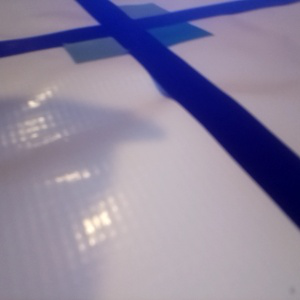bottom_left: (61, 32, 150, 63)
bottom_right: (121, 20, 212, 46)
top_right: (102, 4, 170, 24)
